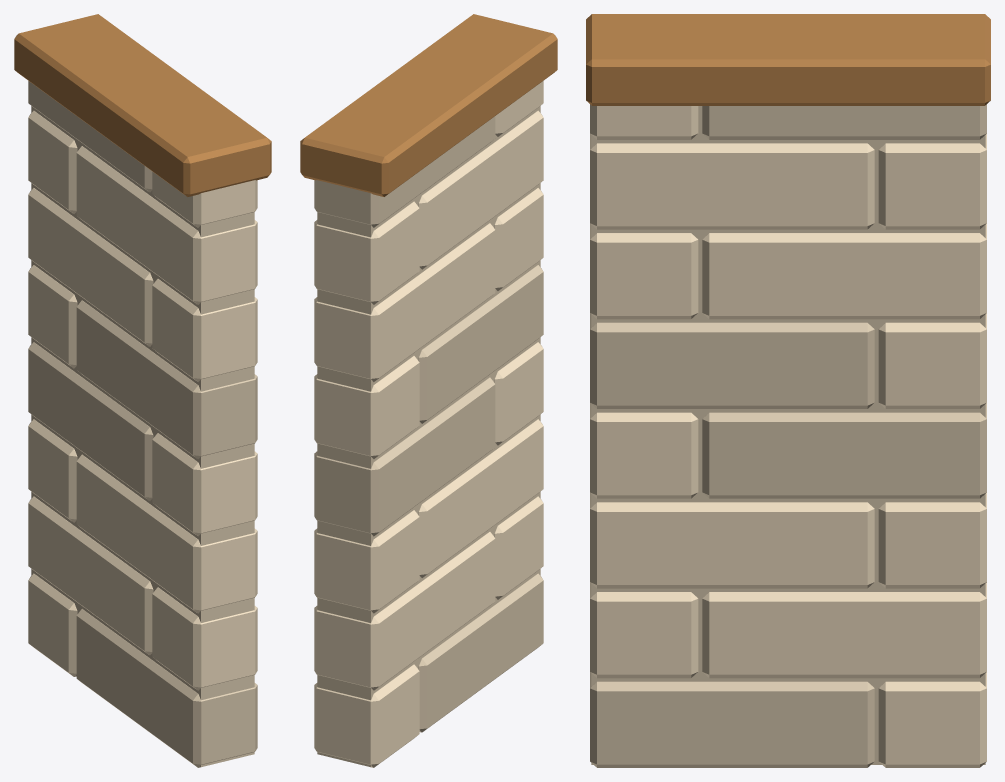
Rendered from mod_wall_curved_r2.52_n16_plain.glb.
The picture shows the model from 3 angles, left to right: view 1: azimuth 30°, elevation 25°; view 2: azimuth 150°, elevation 25°; view 3: azimuth 270°, elevation 25°; orthographic projection. The views are drawn at different scales.
Visible parts, largest first — view 1: mod_wall_curved_r2.52_n16_plain; view 2: mod_wall_curved_r2.52_n16_plain; view 3: mod_wall_curved_r2.52_n16_plain.
Boxes of the visible parts, x1,y1,x2,y2 form: mod_wall_curved_r2.52_n16_plain: (14, 14, 271, 767); mod_wall_curved_r2.52_n16_plain: (300, 14, 557, 767); mod_wall_curved_r2.52_n16_plain: (586, 14, 990, 767).
Bounding box in the file's own units: 0.3 × 2 × 1.02.
